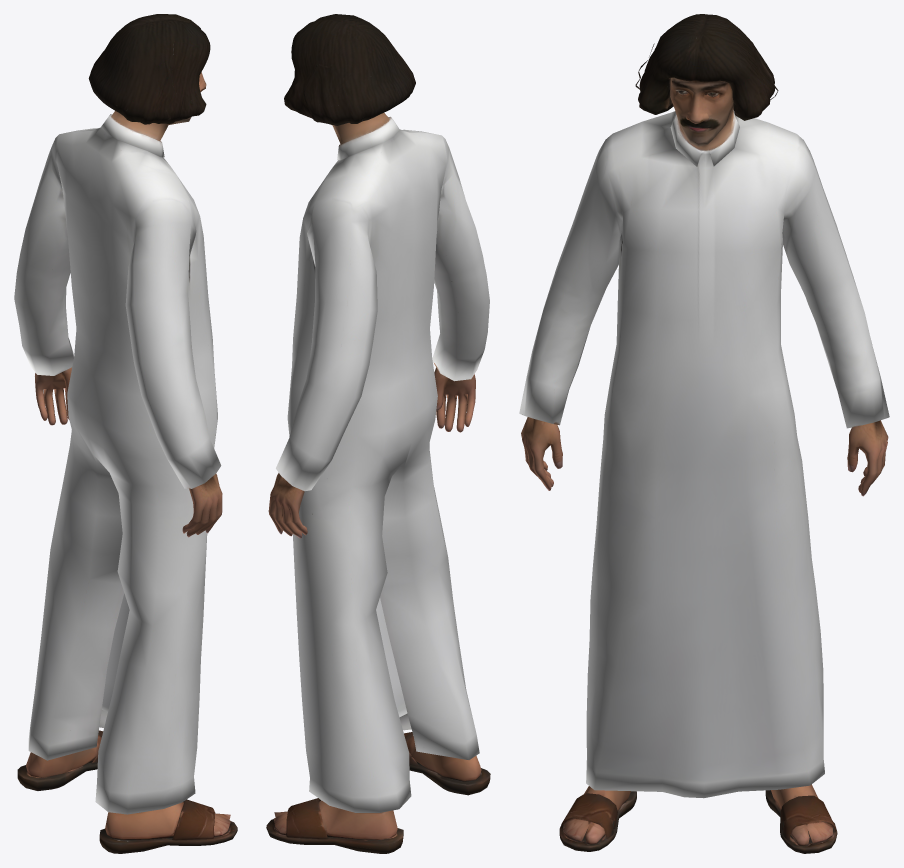
The model's file is personaje-realista.glb.
The picture shows the model from 3 angles, left to right: view 1: azimuth 30°, elevation 25°; view 2: azimuth 150°, elevation 25°; view 3: azimuth 270°, elevation 25°; orthographic projection. The views are drawn at different scales.
Visible parts, largest first — view 1: tripo_node_6a2b0cbb-5c67-4dc0-864f-c4b9e70110e9; view 2: tripo_node_6a2b0cbb-5c67-4dc0-864f-c4b9e70110e9; view 3: tripo_node_6a2b0cbb-5c67-4dc0-864f-c4b9e70110e9.
Boxes of the visible parts, x1,y1,x2,y2 form: tripo_node_6a2b0cbb-5c67-4dc0-864f-c4b9e70110e9: [14, 14, 237, 853]; tripo_node_6a2b0cbb-5c67-4dc0-864f-c4b9e70110e9: [266, 14, 490, 853]; tripo_node_6a2b0cbb-5c67-4dc0-864f-c4b9e70110e9: [519, 14, 889, 853].
Bounding box in the file's own units: 0.1938 × 0.9995 × 0.4087.
1 material, 1 textured.
